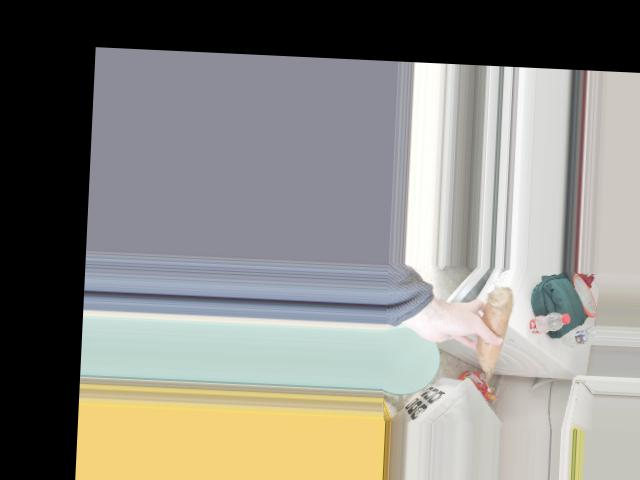sweet_potato: (478, 285, 506, 376)
